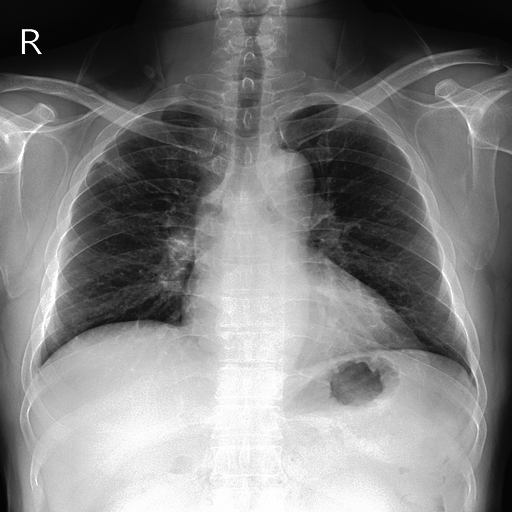Consolidation: (258, 146, 314, 229)
Nodule/Mass: (180, 293, 423, 360)
Pneumothorax: (96, 151, 166, 219), (100, 154, 140, 183)
